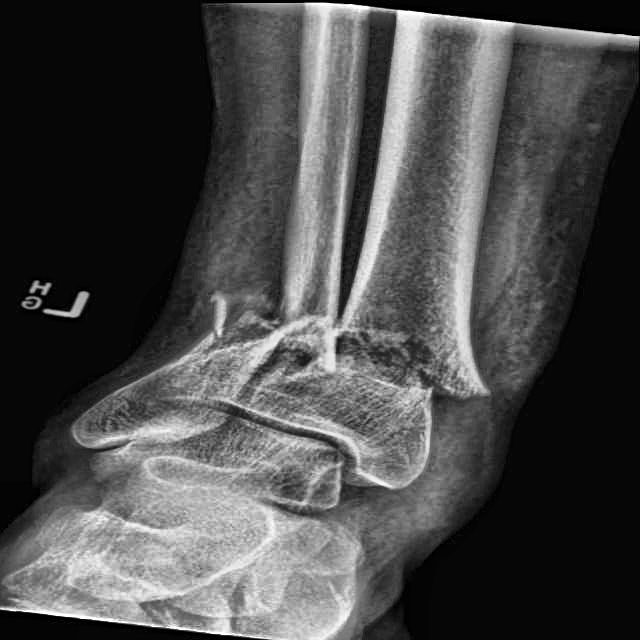Comminuted: (314, 299, 526, 418), (183, 266, 326, 363)
